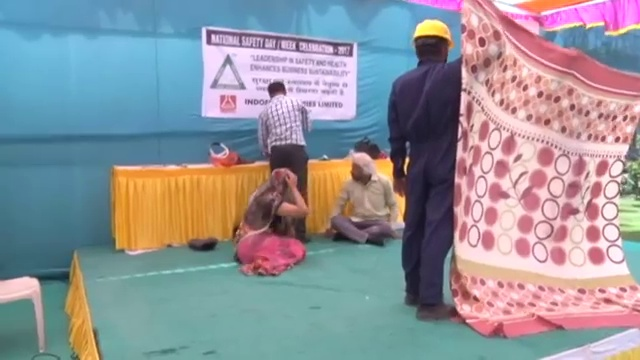helmet: (412, 18, 453, 49)
helmet_off: (347, 148, 372, 183), (270, 167, 295, 193), (267, 80, 288, 102)
helmet_on: (412, 19, 453, 62)
person: (388, 18, 457, 319), (259, 80, 314, 243), (234, 167, 306, 274), (330, 146, 397, 243)
